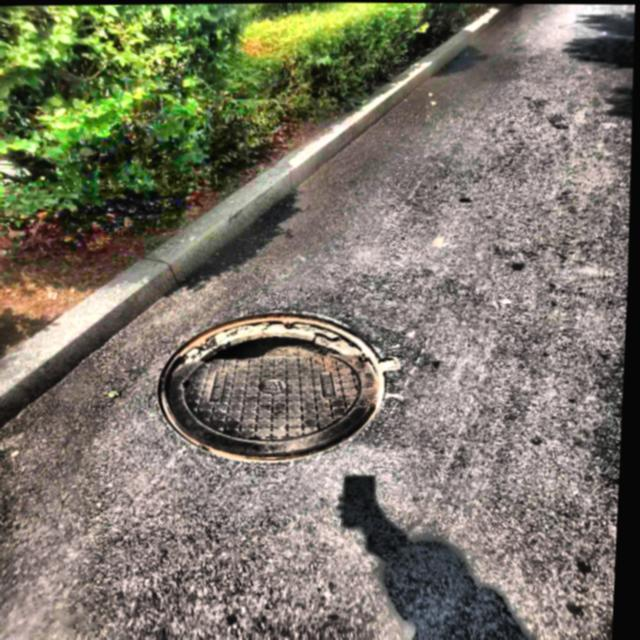open_manhole: (150, 302, 381, 461)
